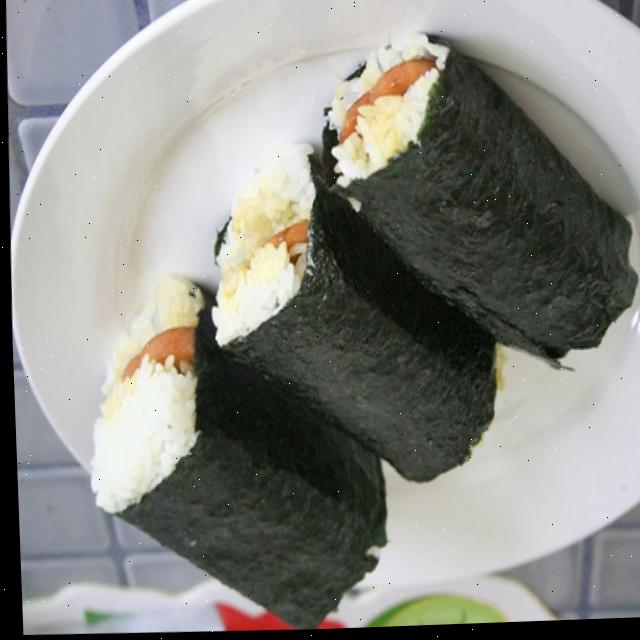寿司卷物: (26, 0, 640, 639)
